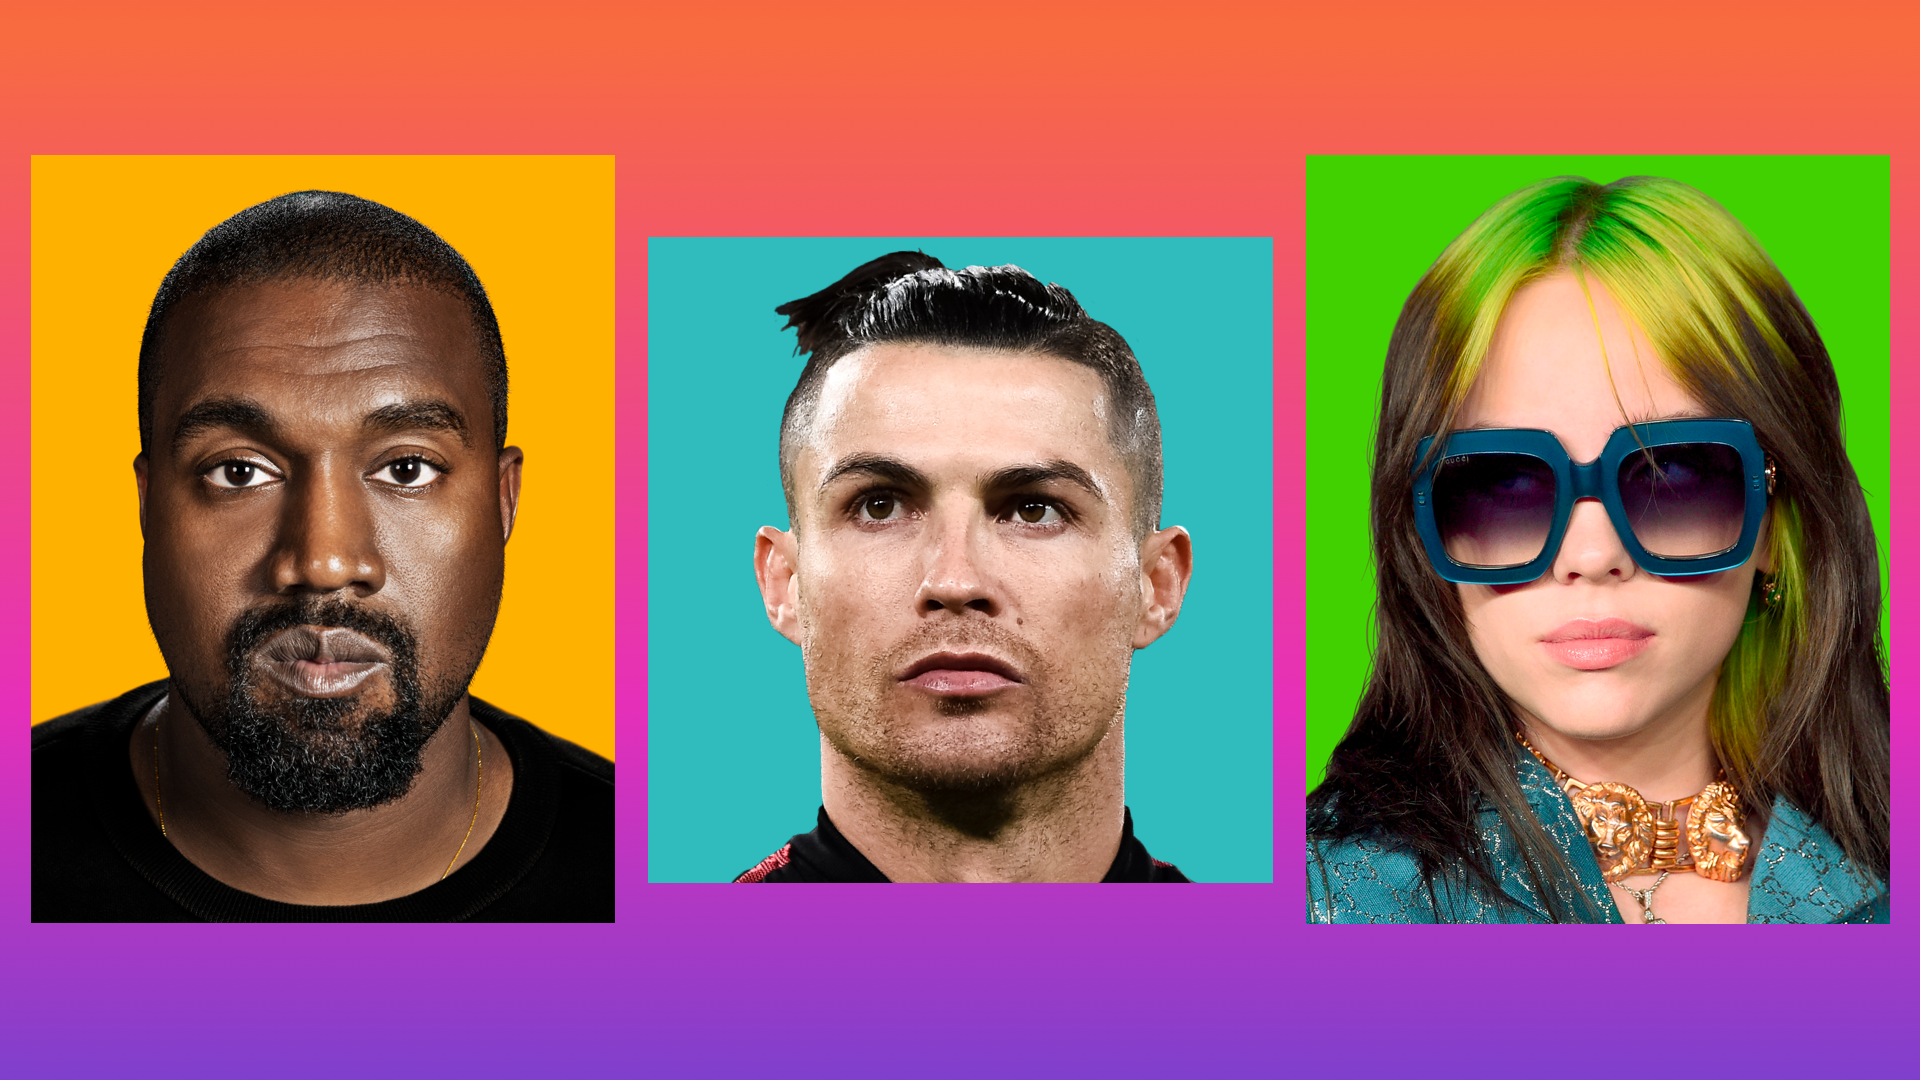NoMask: (150, 384, 473, 798), (802, 434, 1127, 786), (1421, 413, 1735, 738)
